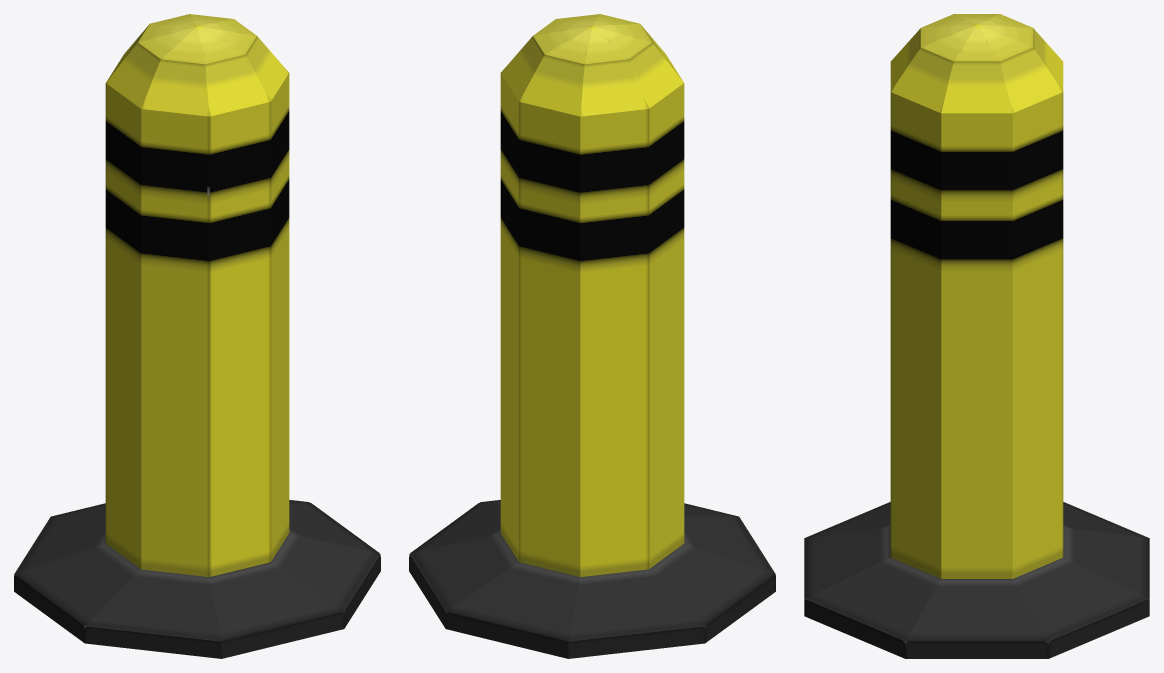
File: QB-10_Pylon.fbx
The picture shows the model from 3 angles, left to right: view 1: azimuth 30°, elevation 25°; view 2: azimuth 150°, elevation 25°; view 3: azimuth 270°, elevation 25°; orthographic projection.
Visible parts, largest first — view 1: circle; view 2: circle; view 3: circle.
Boxes of the visible parts, <box> form: circle: <box>14,14,380,658</box>; circle: <box>409,14,775,658</box>; circle: <box>804,14,1149,658</box>.
Size of the model in its own units: 75 by 134 by 75.
